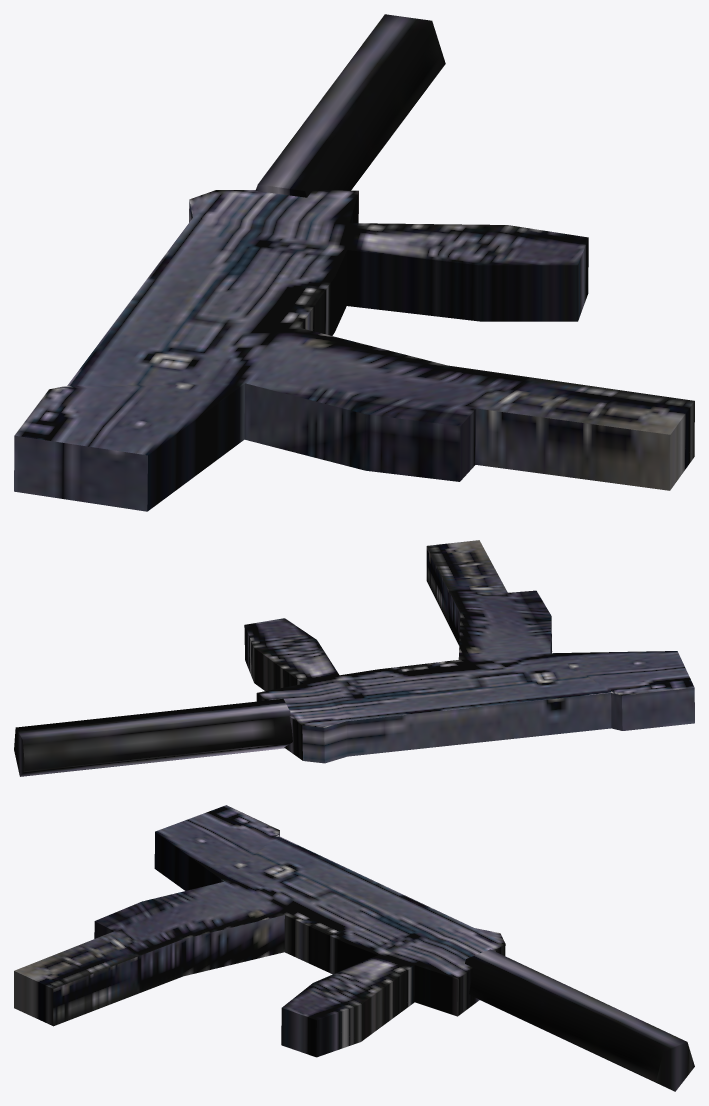
Rendered from tmp-drop.glb.
3 views of the same model, one above another, from view 1: azimuth 30°, elevation 25°; view 2: azimuth 150°, elevation 25°; view 3: azimuth 270°, elevation 25° (orthographic). The views are drawn at different scales.
Parts seen in each view (by area): view 1: tmp dropped.001; view 2: tmp dropped.001; view 3: tmp dropped.001.
Part boxes in pixels (x1,y1,x2,y2): tmp dropped.001: (14, 14, 694, 511); tmp dropped.001: (14, 540, 694, 776); tmp dropped.001: (14, 805, 694, 1091).
Bounding box in the file's own units: 0.3344 × 0.0309 × 0.3912.
Materials: 1 (1 with a texture image).
